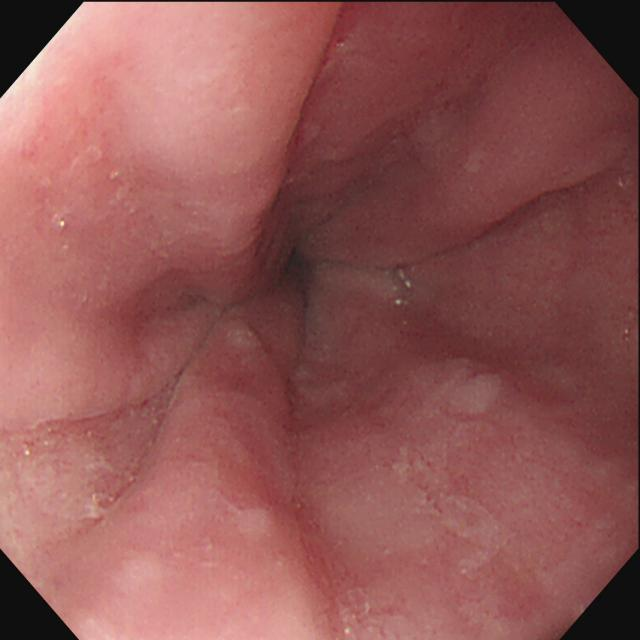J: (313, 444, 515, 581), (20, 389, 162, 523), (407, 355, 502, 444), (345, 269, 413, 308)
K: (255, 181, 289, 258)
